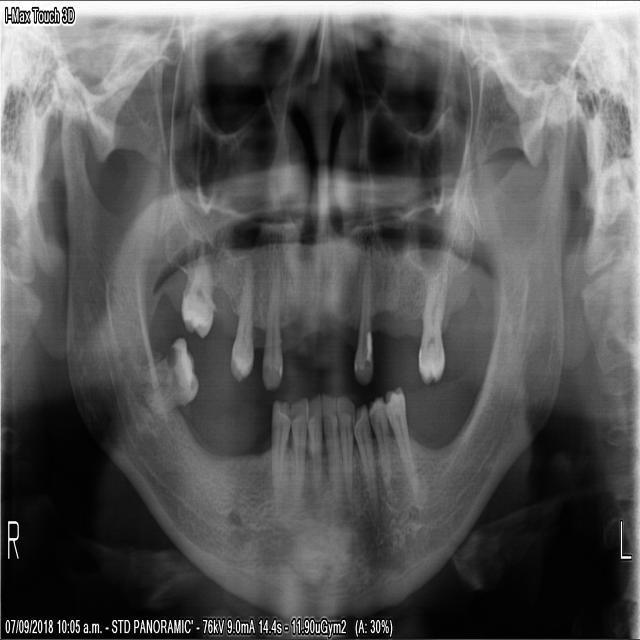LCD: (351, 398, 383, 517)
LCU: (351, 257, 372, 386)
LID: (320, 386, 344, 486), (335, 388, 356, 497)
LMU: (416, 268, 447, 380)
LPMD: (384, 376, 423, 495), (366, 387, 401, 494)
RCD: (269, 395, 291, 494)
RID: (289, 389, 309, 492), (306, 388, 323, 493)
RMD: (155, 332, 199, 412)
RMU: (178, 266, 213, 339)
RPMD: (257, 257, 284, 395)
RPMU: (226, 260, 255, 382)
